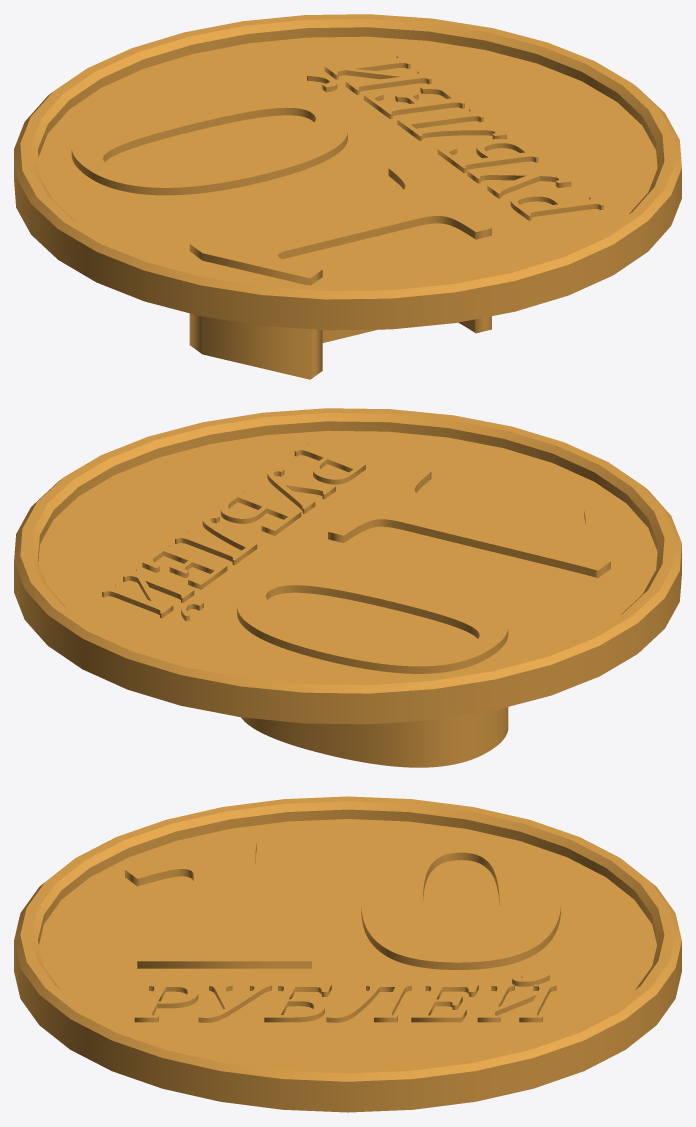
File: 10 рубль.fbx
The picture shows the model from 3 angles, top to bottom: view 1: azimuth 30°, elevation 25°; view 2: azimuth 150°, elevation 25°; view 3: azimuth 270°, elevation 25°; orthographic projection.
Visible parts, largest first — view 1: Окружность.001, Текст.003, Текст.002; view 2: Окружность.001, Текст.003, Текст.002; view 3: Окружность.001, Текст.003, Текст.002.
Boxes of the visible parts, x1,y1,x2,y2 form: Окружность.001: (14, 14, 681, 330); Текст.003: (71, 89, 491, 379); Текст.002: (307, 55, 603, 220); Окружность.001: (14, 408, 681, 724); Текст.003: (237, 468, 610, 767); Текст.002: (102, 442, 365, 620); Окружность.001: (14, 796, 681, 1112); Текст.003: (125, 843, 560, 969); Текст.002: (134, 973, 556, 1022).
Size of the model in its own units: 164 by 29.43 by 164.
